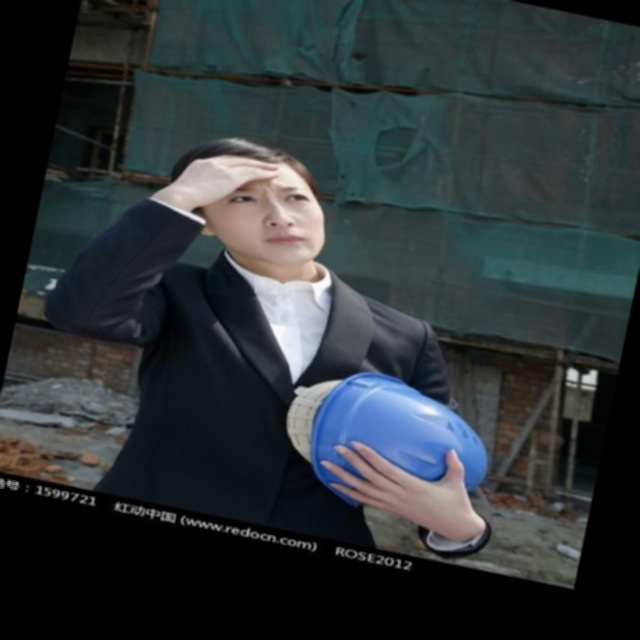Sin_Casco_Mascarrilla: (160, 127, 343, 274)
